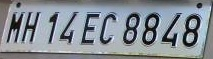character: (160, 12, 182, 49), (79, 11, 101, 46), (141, 12, 161, 46), (181, 13, 201, 47), (58, 11, 79, 43), (6, 10, 25, 44), (98, 12, 117, 44), (20, 11, 40, 41), (122, 12, 140, 44), (46, 11, 60, 45)
